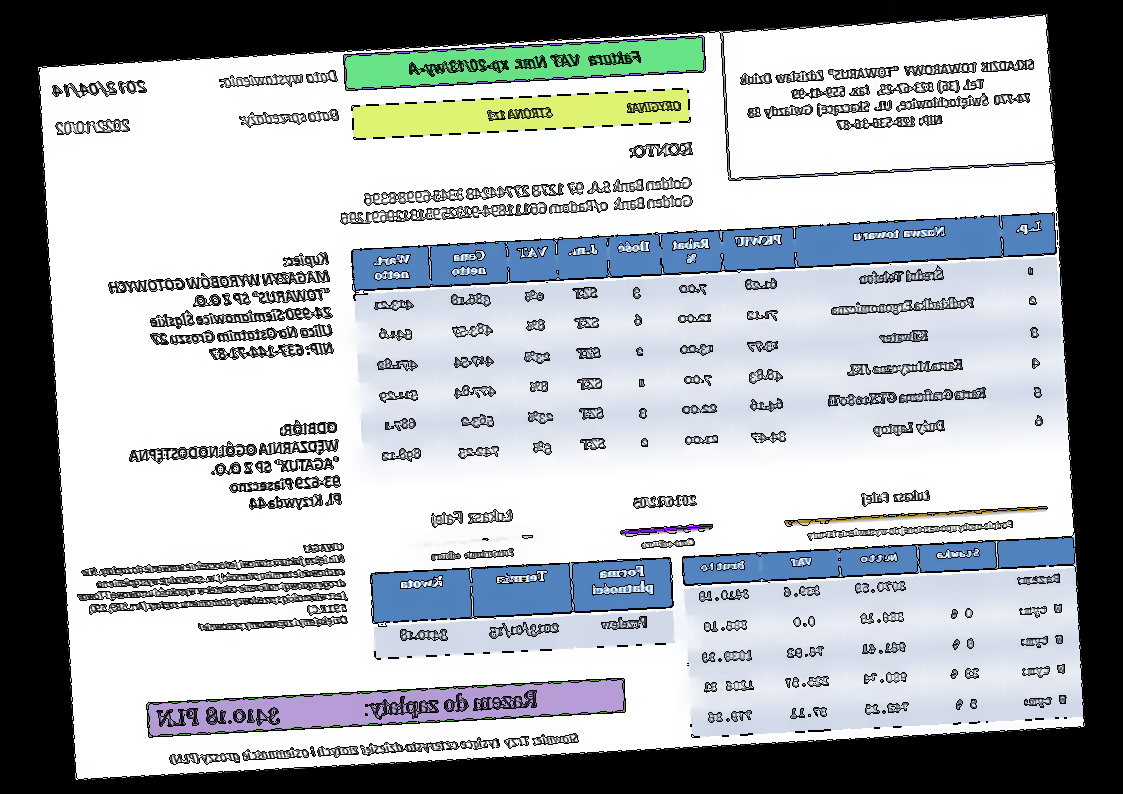Table: (350, 212, 1068, 475), (682, 537, 1083, 737), (368, 555, 677, 660)
TextBox: (74, 541, 350, 640), (105, 250, 335, 367), (737, 56, 1039, 138), (127, 417, 342, 519), (336, 174, 694, 227), (155, 688, 540, 731), (166, 730, 580, 766), (406, 47, 646, 80), (806, 517, 1016, 543), (486, 98, 684, 122), (217, 66, 338, 91), (236, 106, 340, 129), (51, 76, 149, 98), (431, 507, 516, 530), (53, 117, 132, 137), (632, 491, 699, 512), (860, 488, 933, 507), (430, 546, 515, 562), (628, 140, 694, 159), (640, 535, 697, 551)
